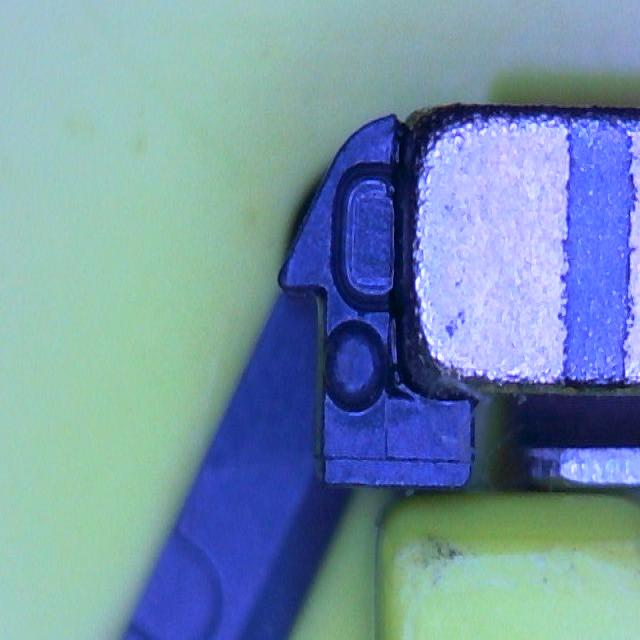lacking: (329, 158, 402, 316)
